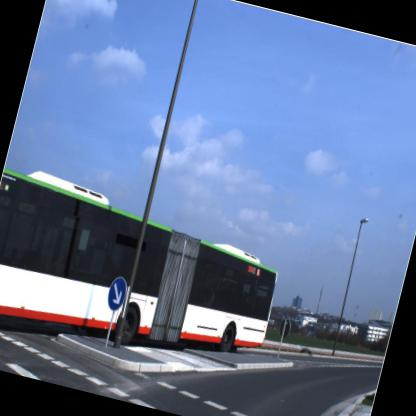mandatory: (100, 272, 134, 318)
